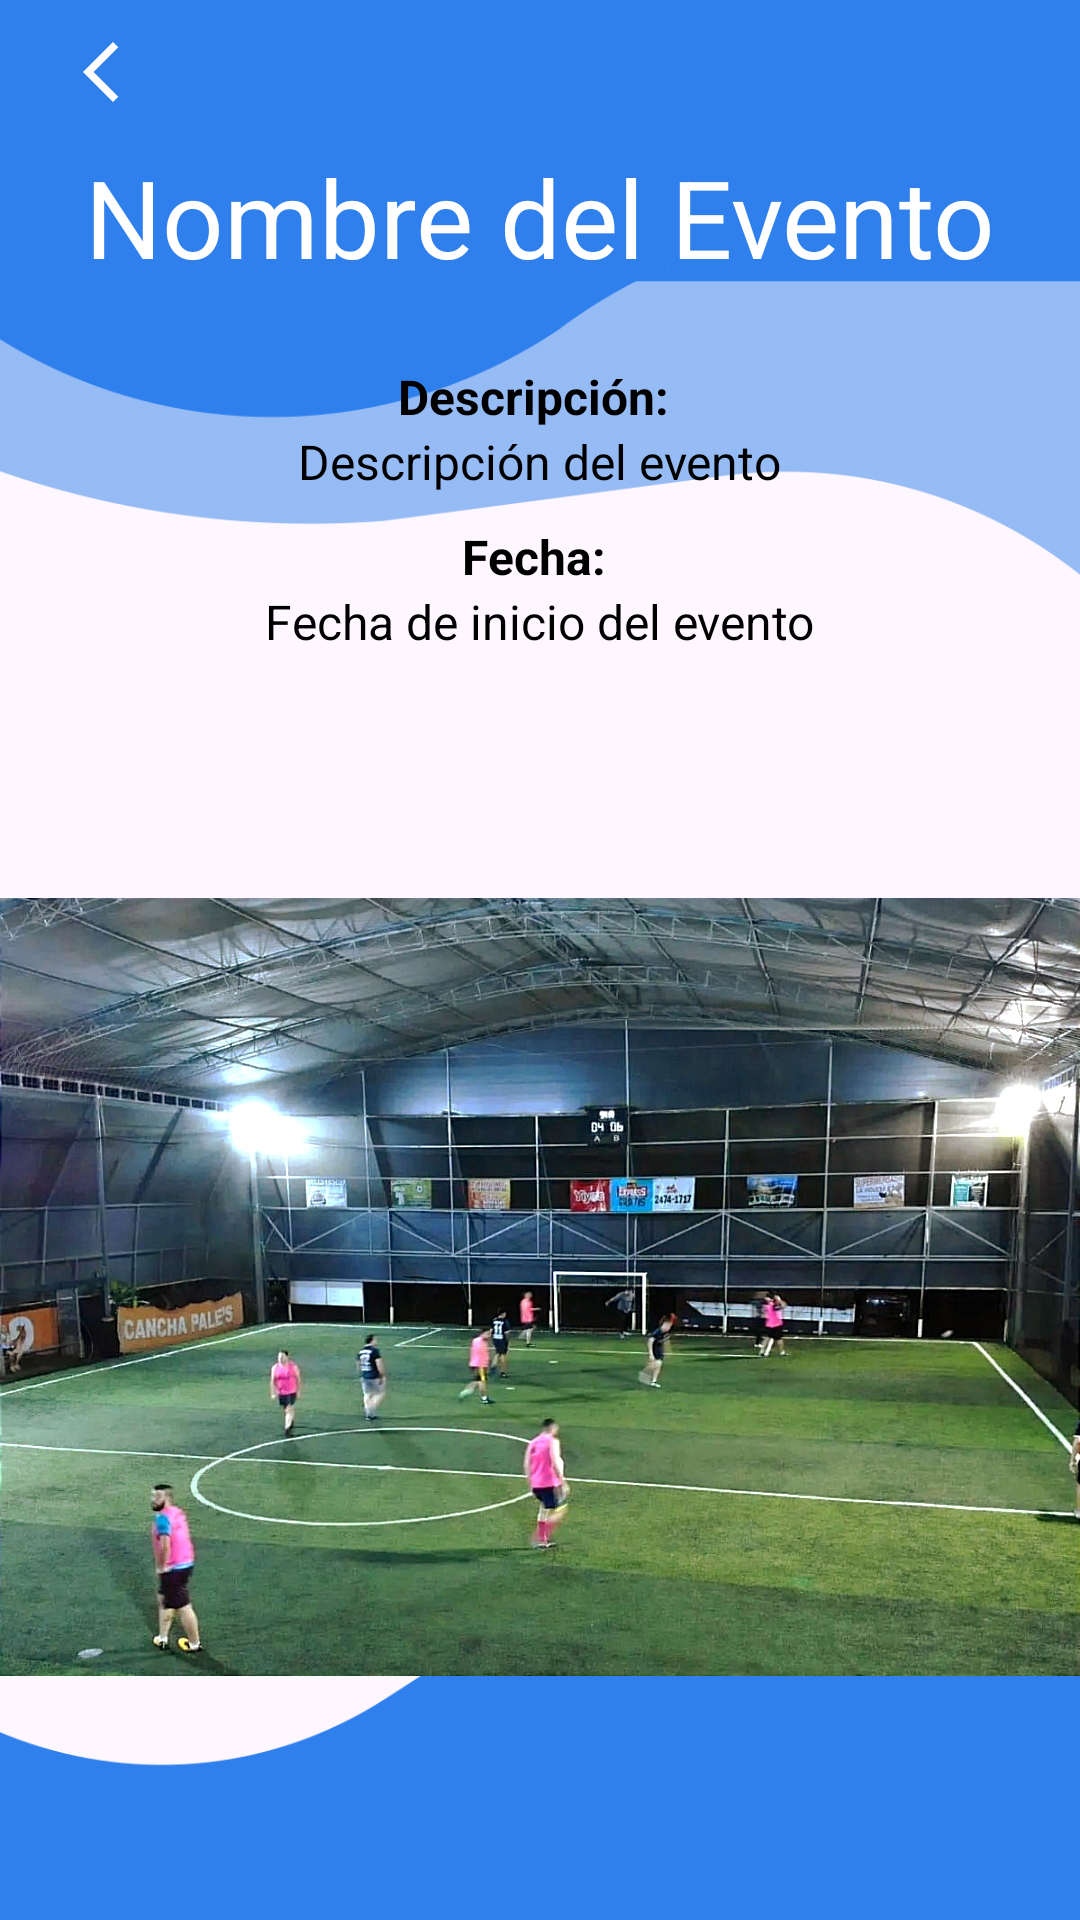

Icon click points for this 1080x1920 phone screenshot, format (x,y):
Go back: (100,72)
